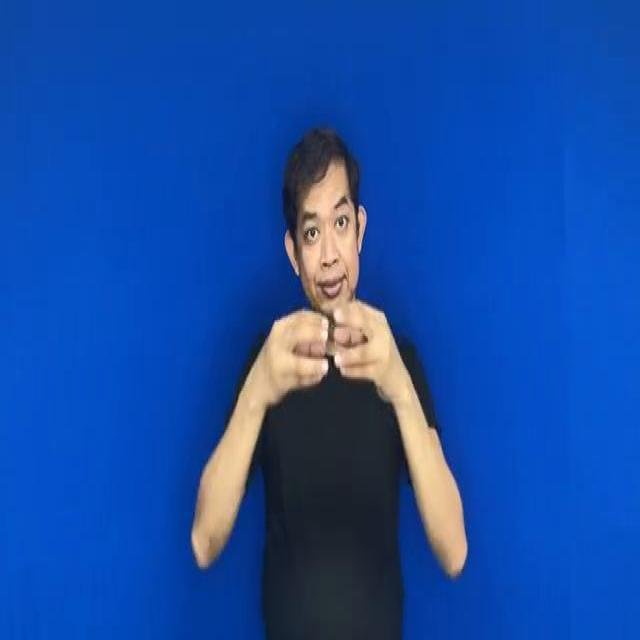egg: (244, 290, 407, 413)
